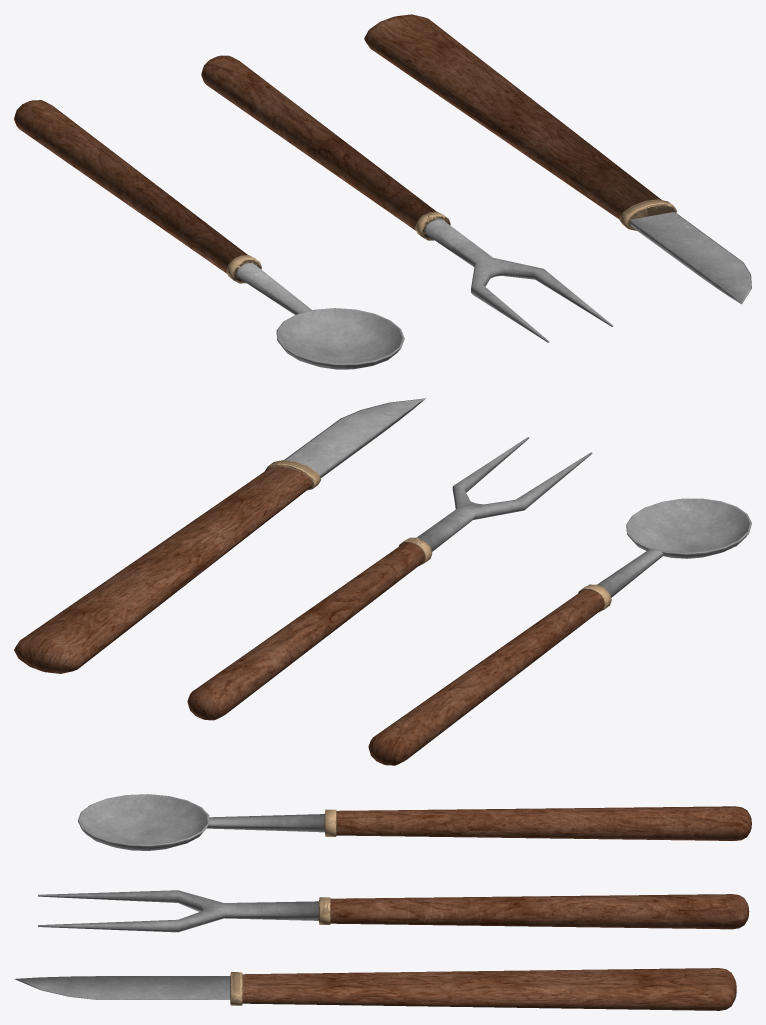
The model's file is Cubiertos_text.obj.
3 views of the same model, one above another, from view 1: azimuth 30°, elevation 25°; view 2: azimuth 150°, elevation 25°; view 3: azimuth 270°, elevation 25° (orthographic). The views are drawn at different scales.
Parts seen in each view (by area): view 1: Cubiertos:Medieval_Cutlery; view 2: Cubiertos:Medieval_Cutlery; view 3: Cubiertos:Medieval_Cutlery.
Part boxes in pixels (x1=…): Cubiertos:Medieval_Cutlery: x1=14, y1=14, x2=751, y2=369; Cubiertos:Medieval_Cutlery: x1=14, y1=398, x2=751, y2=765; Cubiertos:Medieval_Cutlery: x1=14, y1=794, x2=751, y2=1010.
Size of the model in its own units: 2.5 by 0.1826 by 3.71.
Materials: 1 (1 with a texture image).
